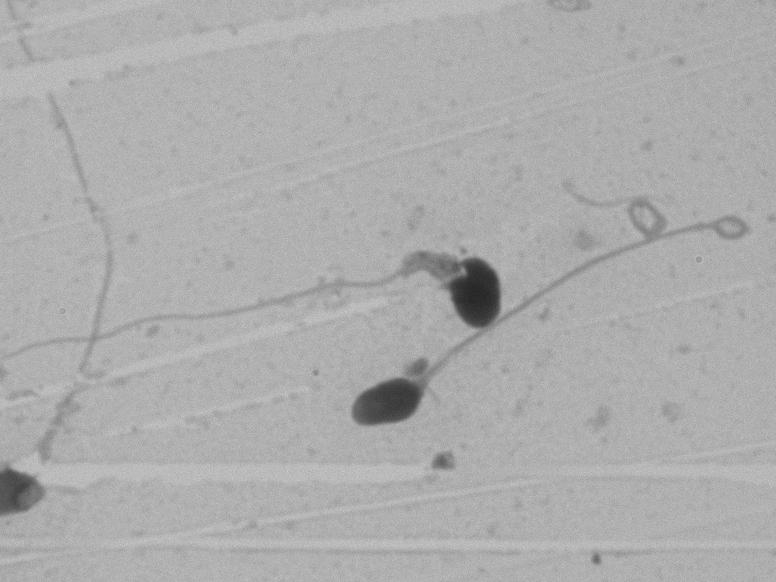Abnormal: (335, 134, 747, 466)
